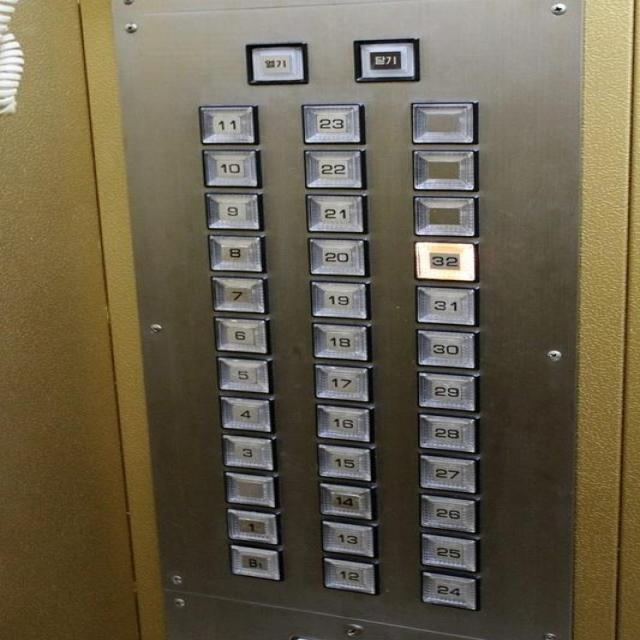1: (226, 506, 281, 548)
10: (199, 147, 262, 189)
11: (197, 105, 256, 142)
12: (322, 558, 373, 596)
13: (320, 519, 374, 559)
14: (320, 478, 372, 520)
15: (314, 443, 374, 481)
16: (314, 400, 368, 443)
17: (312, 363, 369, 405)
18: (308, 322, 368, 362)
19: (308, 278, 368, 318)
20: (309, 238, 366, 274)
21: (305, 193, 367, 233)
22: (301, 148, 365, 189)
23: (300, 102, 368, 144)
24: (422, 570, 476, 610)
25: (418, 526, 477, 573)
26: (416, 491, 476, 534)
27: (418, 451, 475, 495)
28: (418, 410, 475, 456)
29: (414, 370, 478, 414)
3: (220, 430, 274, 472)
30: (416, 326, 482, 372)
31: (412, 282, 481, 332)
32: (412, 238, 479, 284)
4: (216, 393, 272, 432)
5: (215, 354, 270, 394)
6: (212, 314, 270, 352)
7: (210, 273, 267, 315)
8: (204, 233, 267, 273)
9: (202, 190, 265, 231)
B1: (224, 538, 280, 582)
empty: (407, 100, 480, 146), (407, 148, 478, 193), (411, 192, 480, 238), (224, 471, 278, 511)
text: (241, 41, 311, 86), (351, 37, 419, 83)
